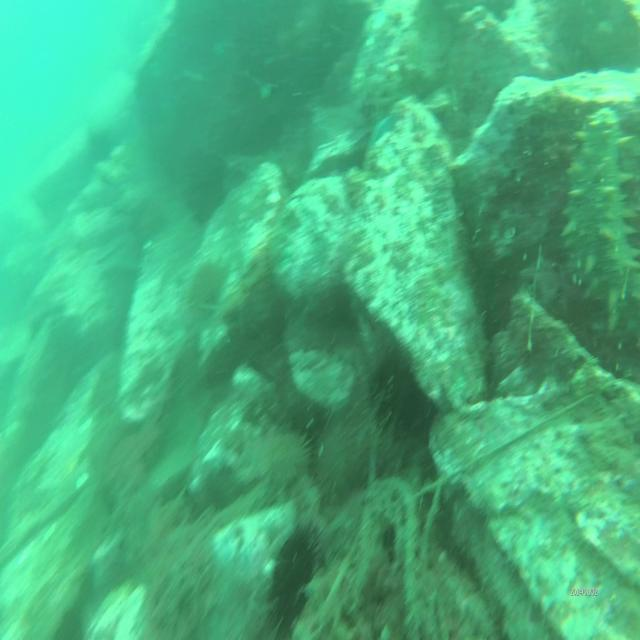echinus: (265, 518, 321, 623), (365, 350, 420, 430), (260, 418, 312, 496), (317, 416, 363, 497)
holothurian: (562, 102, 638, 311)
